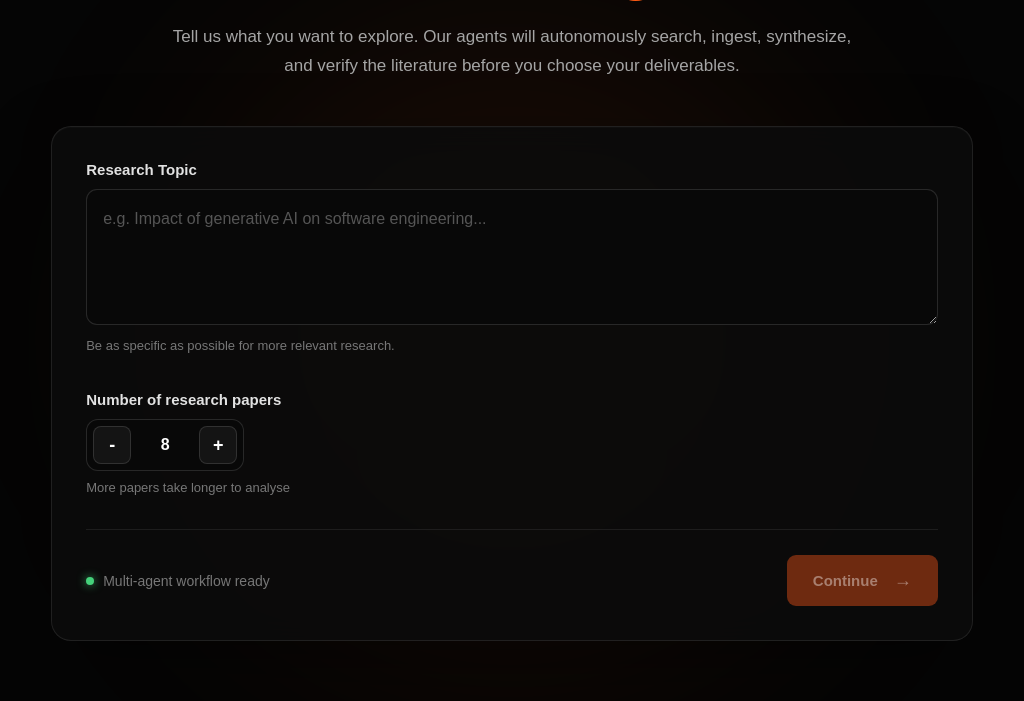
Test: ResearchSetup Component - Paper Count Stepper › typed input: typing out-of-bounds clamps to limits (min 3, max 15)
(page scrolled)
Replace the text in the number field labelled "Number of research papers" with "20" at (165, 446), box [139,426,191,464]
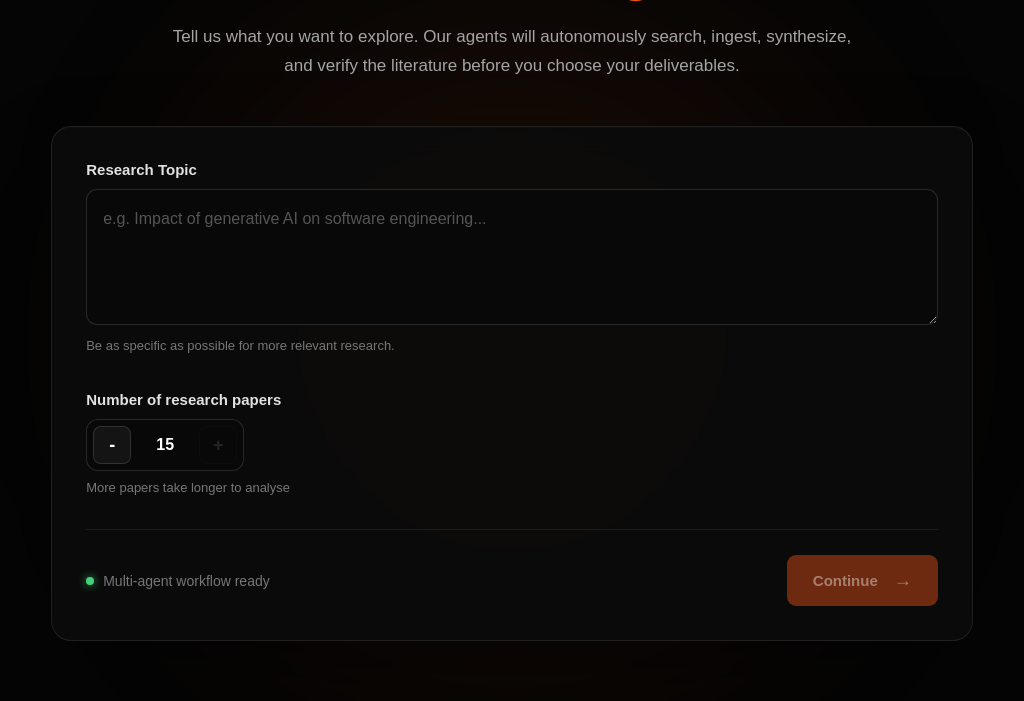
Expected: the number field labelled "Number of research papers" holds "15"
Replace the text in the number field labelled "Number of research papers" with "1" at (165, 446), box [139,426,191,464]
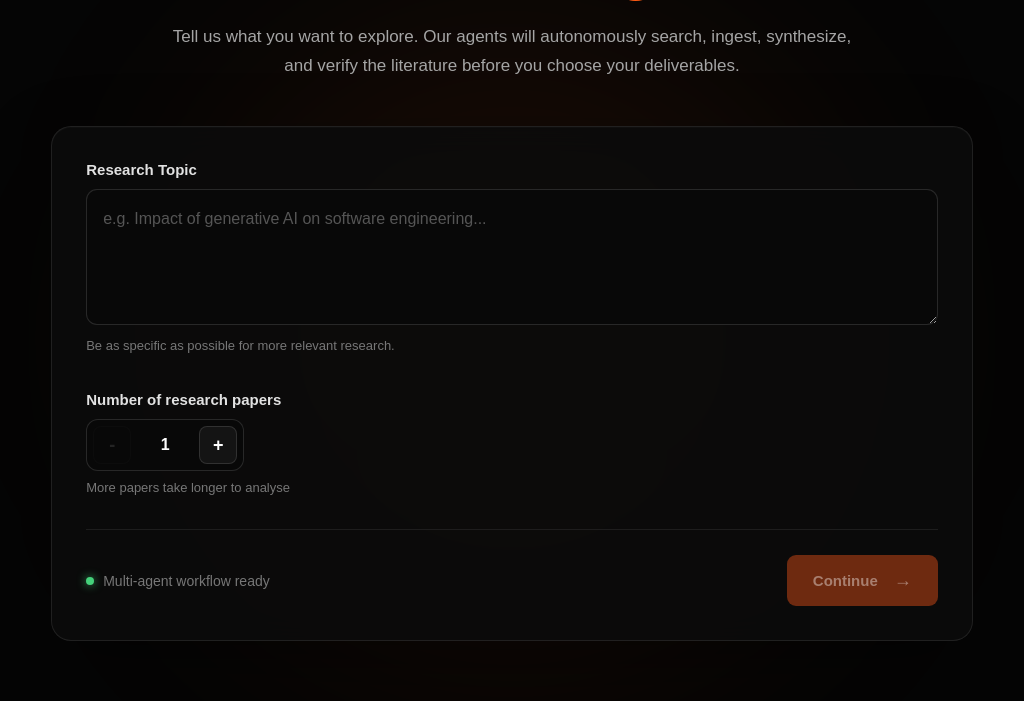
Leave the number field labelled "Number of research papers", box [139,426,191,464]
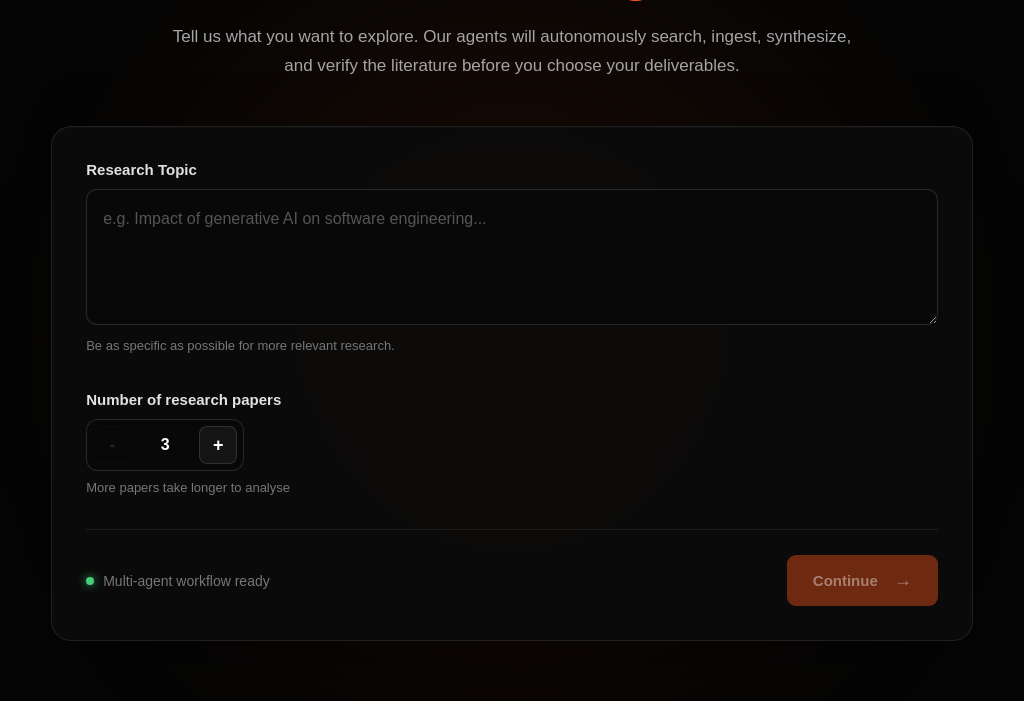
Expected: the number field labelled "Number of research papers" holds "3", [139,426,191,464]
